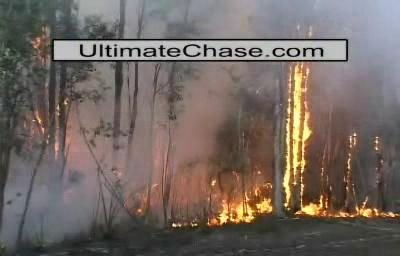fire: (287, 63, 327, 219), (207, 176, 276, 227), (333, 211, 400, 220)
smoke: (163, 65, 230, 163), (10, 171, 86, 235)
